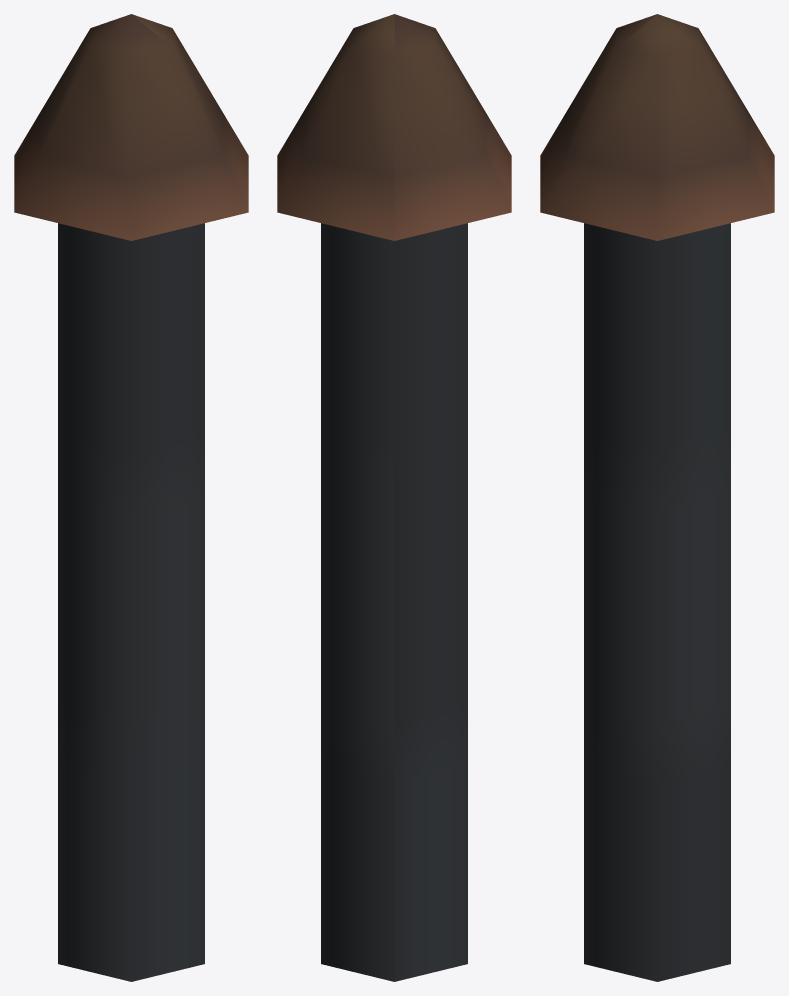
File: chimney_v3.fbx
The picture shows the model from 3 angles, left to right: view 1: azimuth 30°, elevation 25°; view 2: azimuth 150°, elevation 25°; view 3: azimuth 270°, elevation 25°; orthographic projection.
Parts seen in each view (by area): view 1: chimney_v3; view 2: chimney_v3; view 3: chimney_v3.
Boxes of the visible parts, box(x1,y1,x2,y2) form: chimney_v3: box(14, 14, 248, 981); chimney_v3: box(277, 14, 511, 981); chimney_v3: box(540, 14, 774, 981).
Size of the model in its own units: 42.7 by 162 by 36.98.
